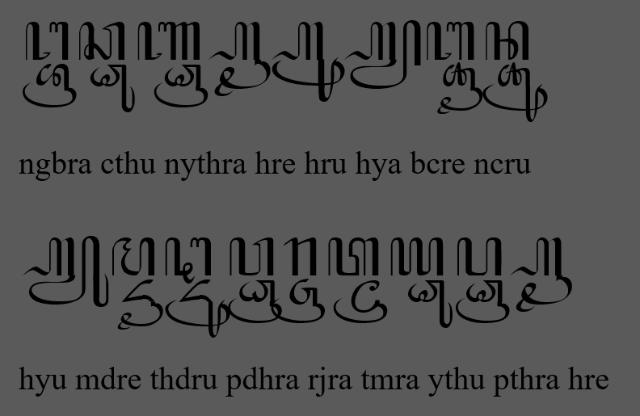_br: (22, 62, 78, 108)
_cre: (436, 61, 484, 115)
_cru: (482, 61, 548, 122)
_dhr: (228, 278, 282, 324)
_dre: (116, 278, 164, 332)
_dru: (165, 279, 231, 339)
_hre: (208, 21, 272, 98), (509, 237, 573, 313)
_hru: (272, 20, 346, 102)
_hy: (343, 20, 423, 90)
_hyu: (22, 236, 110, 308)
_jr: (271, 278, 325, 324)
_mr: (334, 278, 388, 324)
_thr: (153, 63, 209, 108), (454, 280, 510, 324)
_thu: (406, 279, 454, 329), (90, 63, 136, 113)
b: (425, 20, 475, 61)
c: (78, 21, 126, 61)
m: (111, 236, 155, 276)
n: (484, 20, 530, 61)
nga: (24, 20, 70, 62)
ny: (136, 20, 202, 62)
p: (456, 236, 502, 278)
r: (282, 237, 318, 277)
t: (328, 236, 380, 278)
th: (164, 236, 212, 284)
w: (230, 236, 274, 276)
y: (390, 236, 444, 278)
